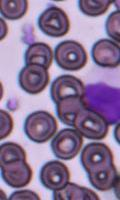L: (82, 65, 120, 126)
